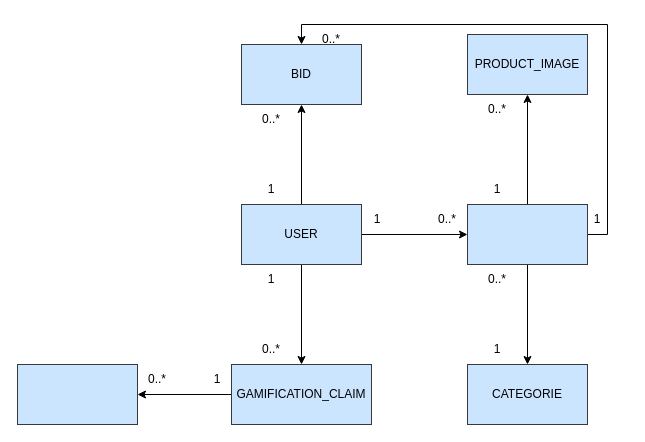
The diagram is 645 pixels wide and 442 high, and some of its shapes have lost their labels. Each missing label, with the centre of its shape:
"GAMIFICATION" goes at pixel 77 394.
"PRODUCT" goes at pixel 527 234.
